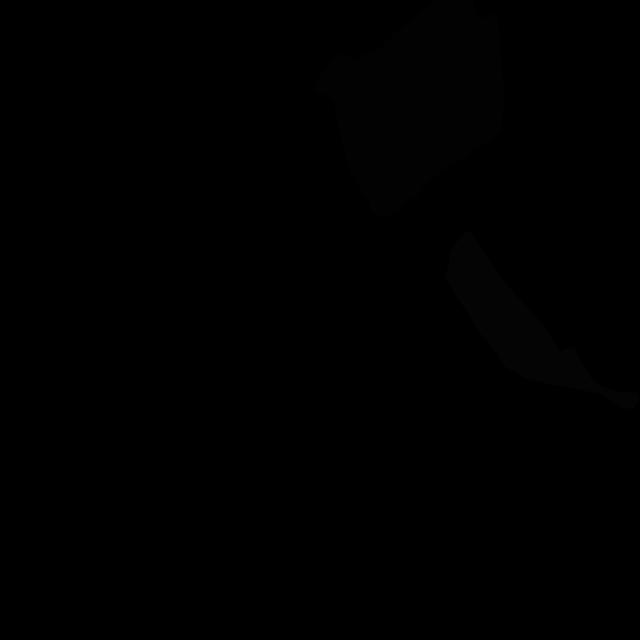cardboard: (314, 0, 504, 219)
soft_plastic: (444, 231, 640, 409)
